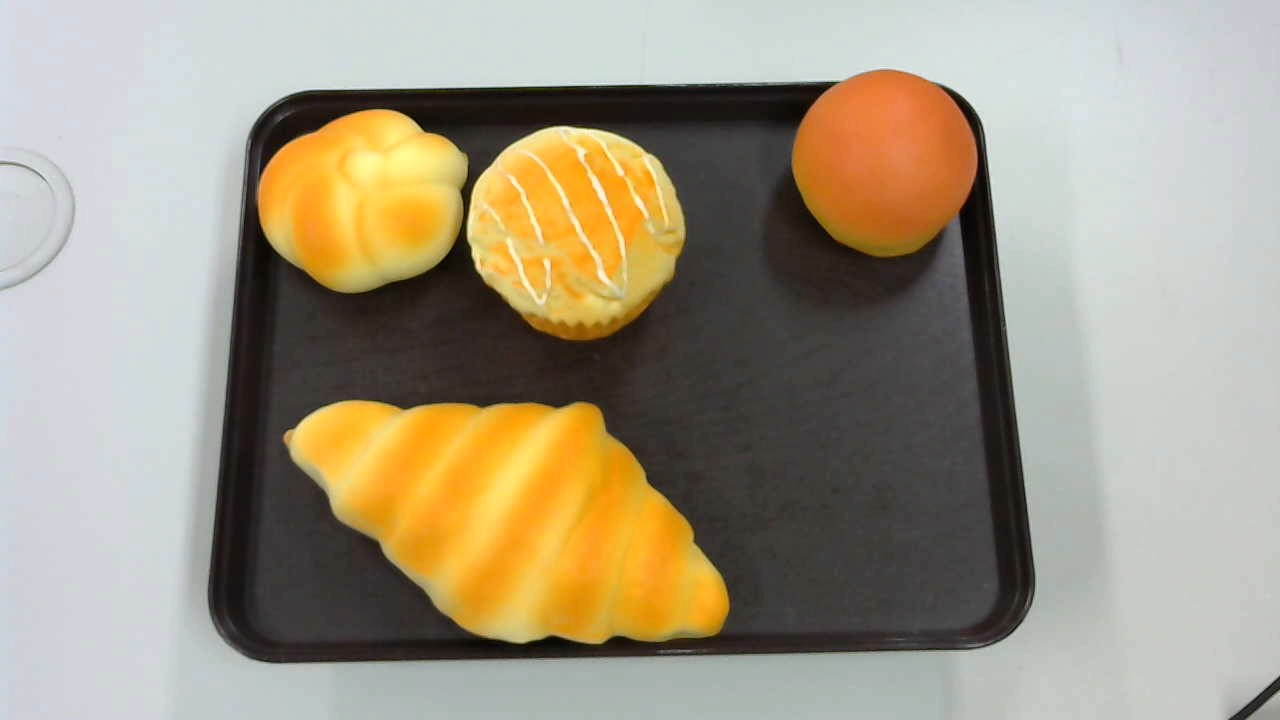bun: (789, 69, 977, 261)
croissant: (282, 396, 730, 645)
cupcake: (467, 125, 686, 344)
twist bread: (254, 109, 468, 296)
